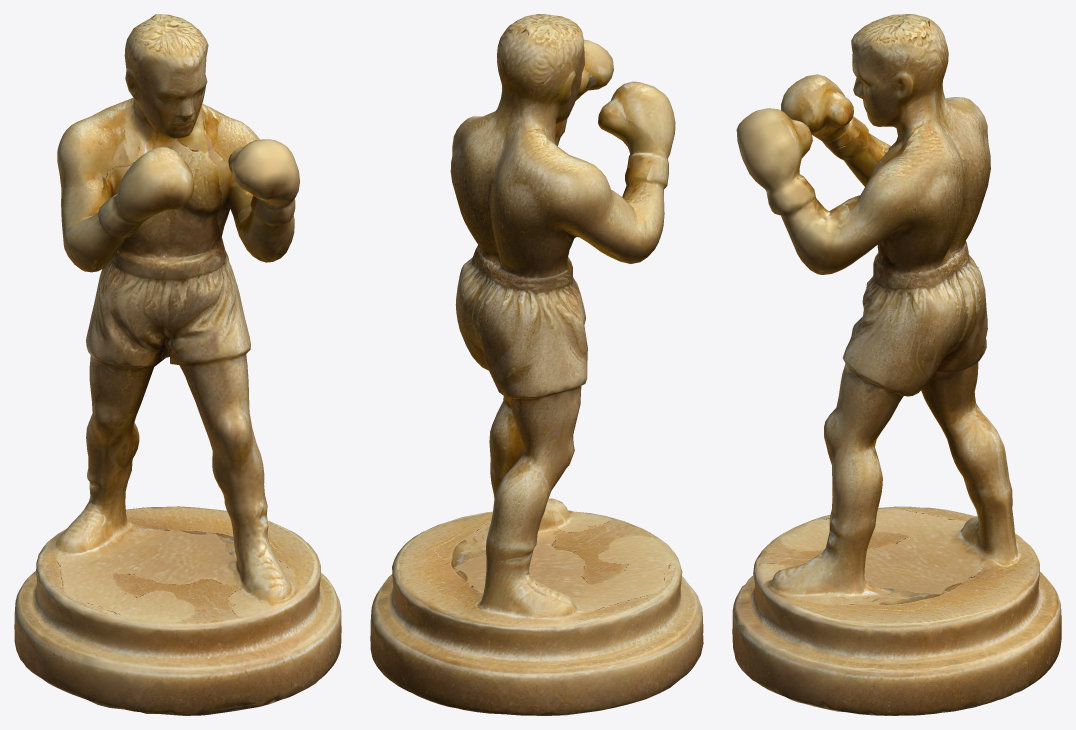
Rendered from draw_statue2_gold.glb.
3 renders of one model, left to right at view 1: azimuth 30°, elevation 25°; view 2: azimuth 150°, elevation 25°; view 3: azimuth 270°, elevation 25°, orthographic.
Parts seen in each view (by area): view 1: texture_mapping; view 2: texture_mapping; view 3: texture_mapping.
Part boxes in pixels (<box>): texture_mapping: <box>14,14,341,715</box>; texture_mapping: <box>370,14,703,715</box>; texture_mapping: <box>732,14,1061,715</box>.
Size of the model in its own units: 0.476 by 1 by 0.4757.
Materials: 1 (1 with a texture image).
